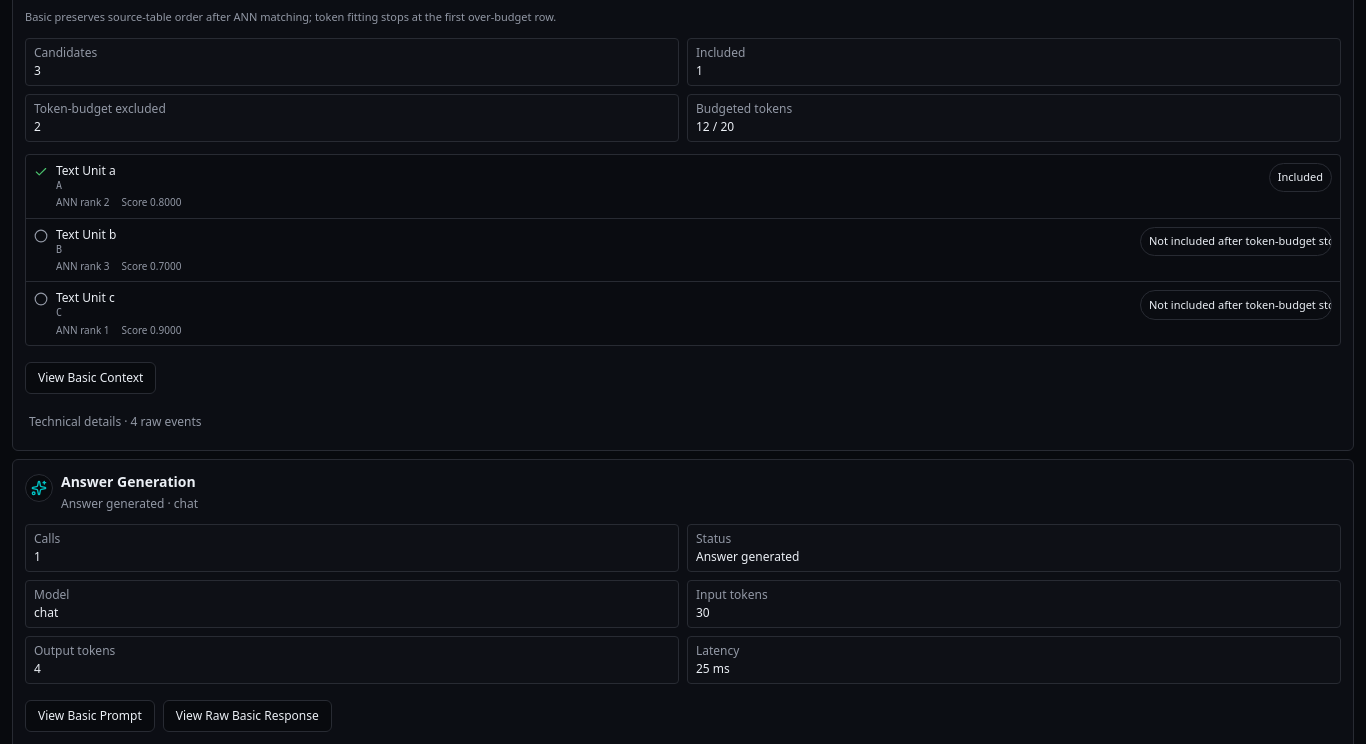
Test: Basic Timeline › shows metadata content as not captured rather than empty
(page scrolled)
Click the button "View Basic Context". click: [91, 378]
box: [25,362,156,394]
(page scrolled)
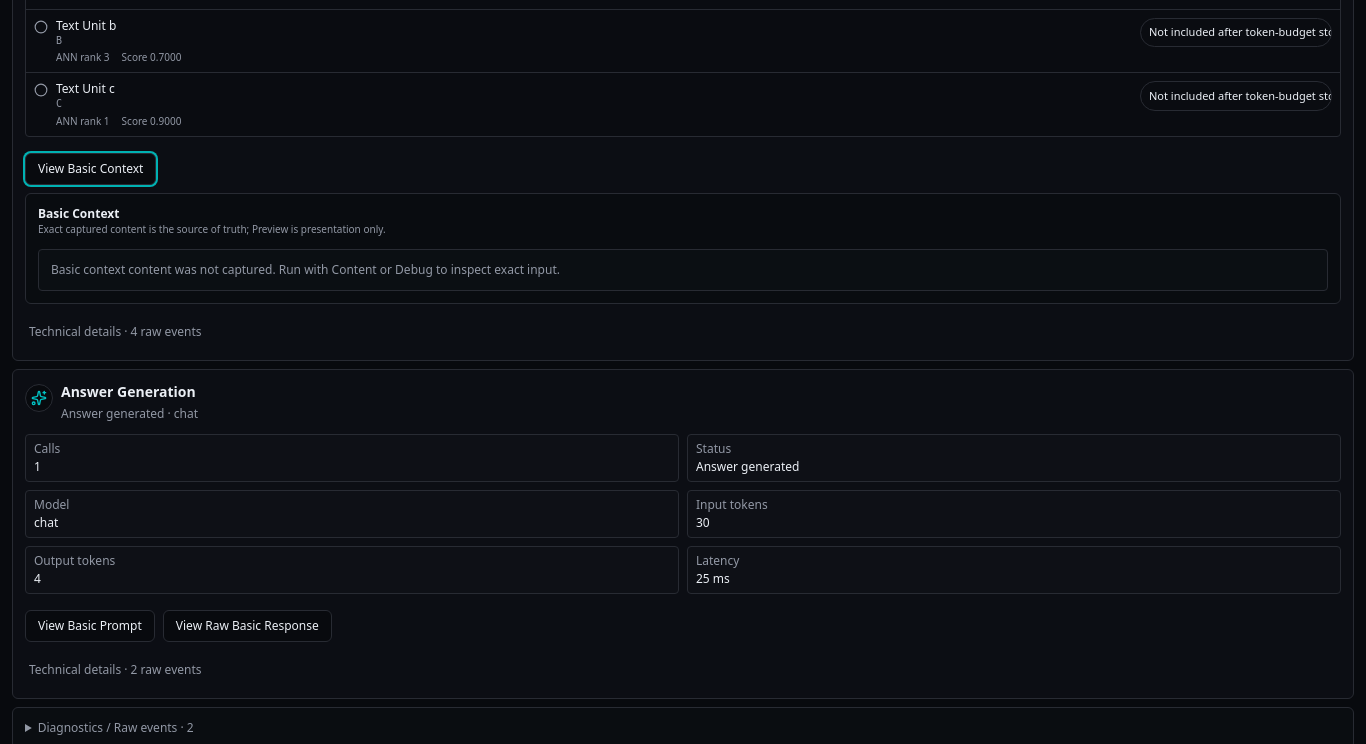
Check: the text "Basic context content was not captured" is shown, box [51,261,560,278]
Click the button "View Basic Prompt". click: [90, 626]
box: [25,610,155,642]
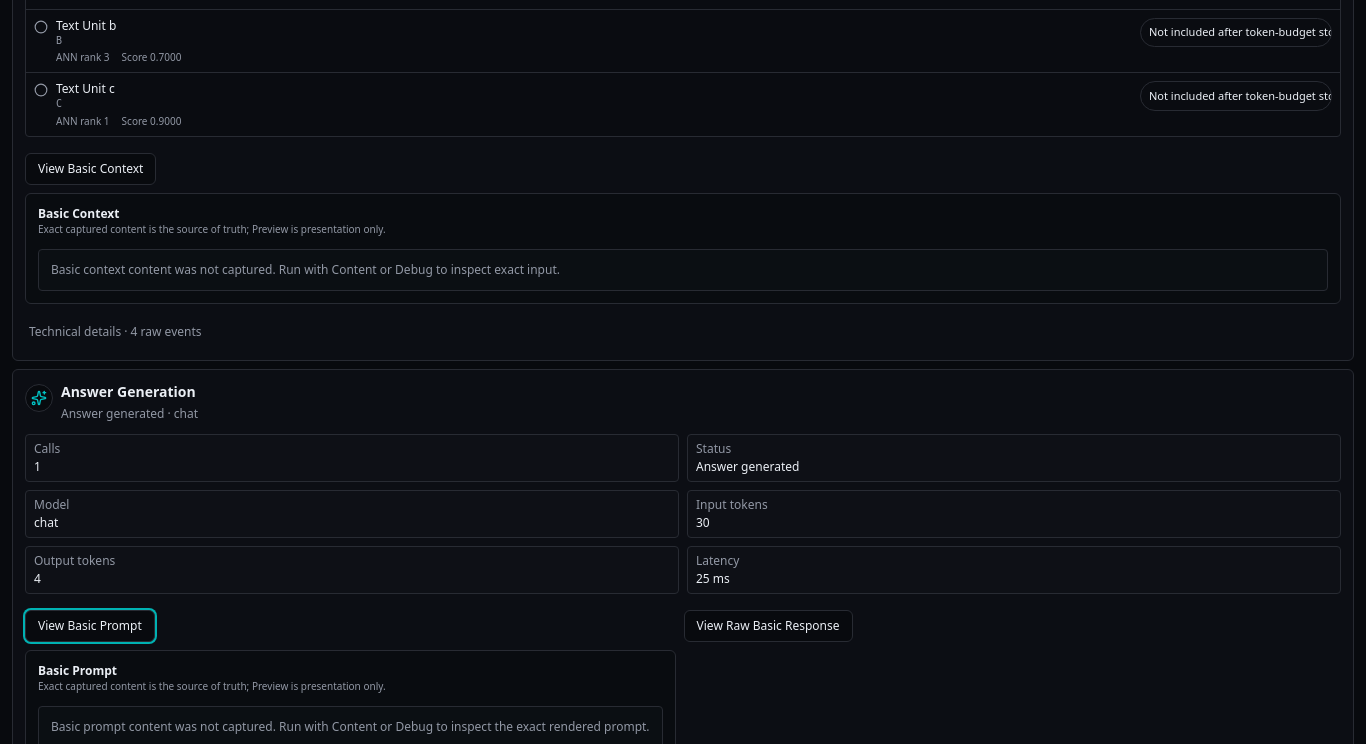
Check: the text "Basic prompt content was not captured" is shown, box [51,718,650,735]
Click the button "View Raw Basic Response". click: [768, 626]
box: [684,610,852,642]
(page scrolled)
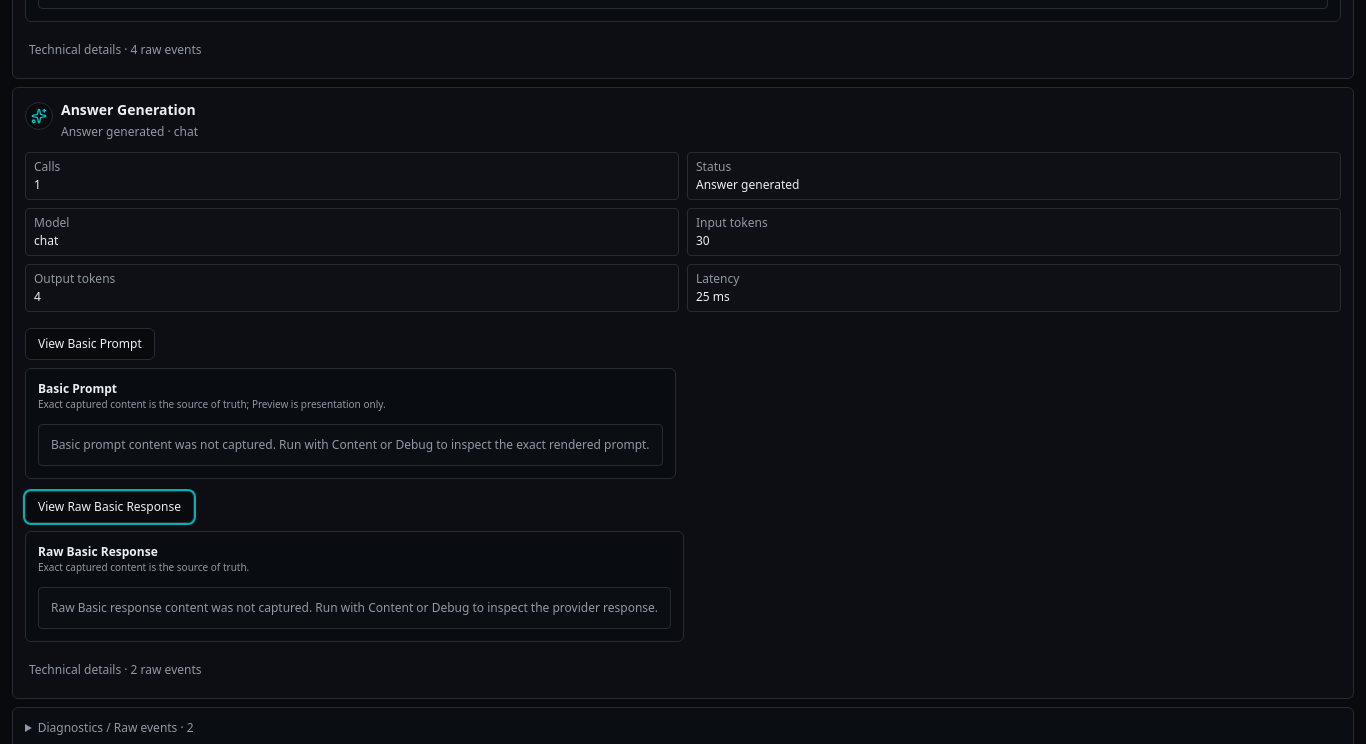
Check: the text "Raw Basic response content was not captured" is shown, box [51,599,658,616]
